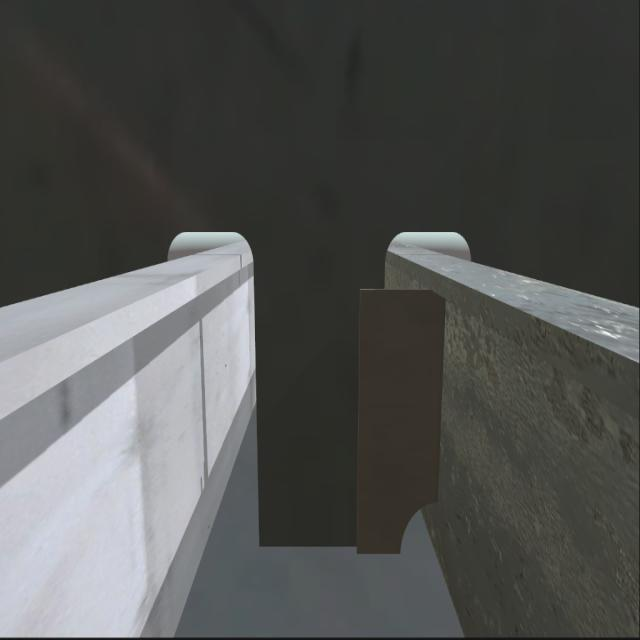fillet_hole: (398, 503, 438, 555)
fillet_yong_jeop_jang: (253, 536, 403, 559)
longi_yong_jeop_jang: (433, 289, 452, 506)
plate_CP01: (352, 287, 446, 556)
